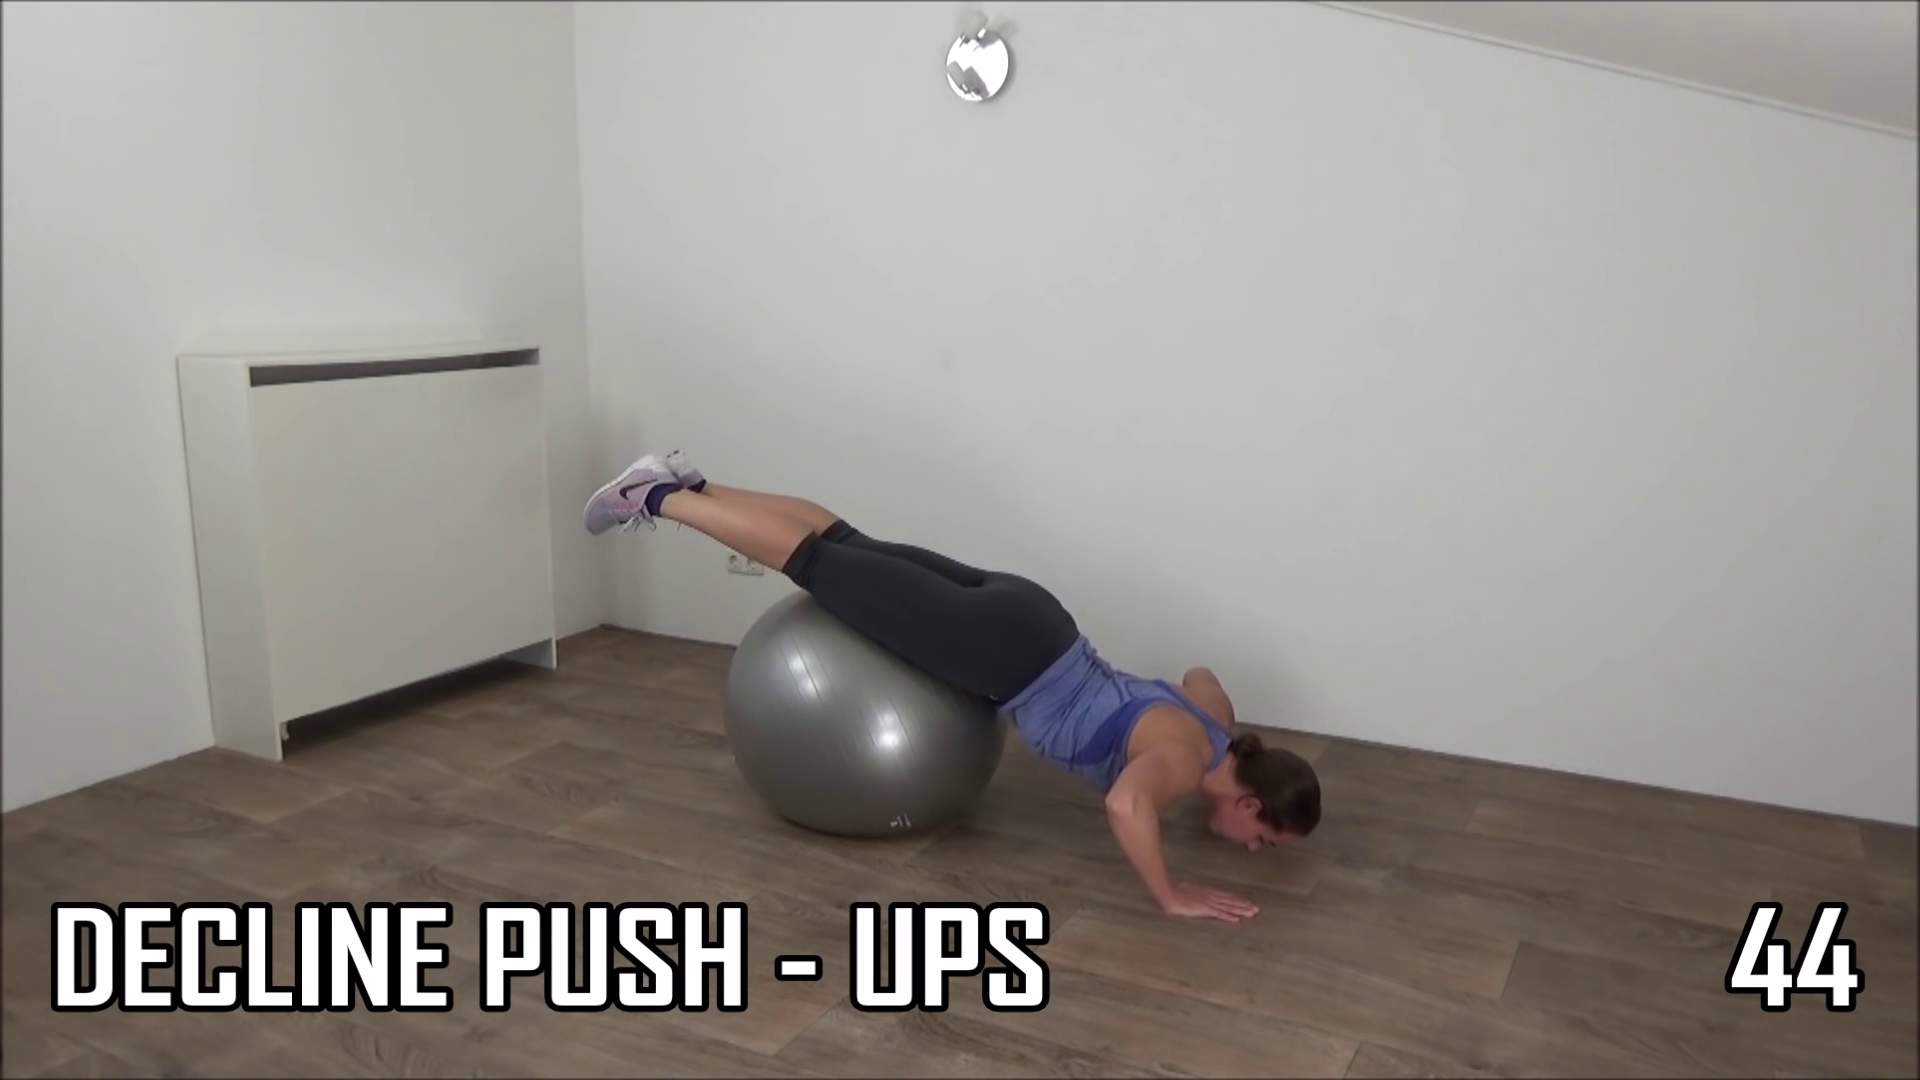yogaball: (708, 578, 1015, 865)
